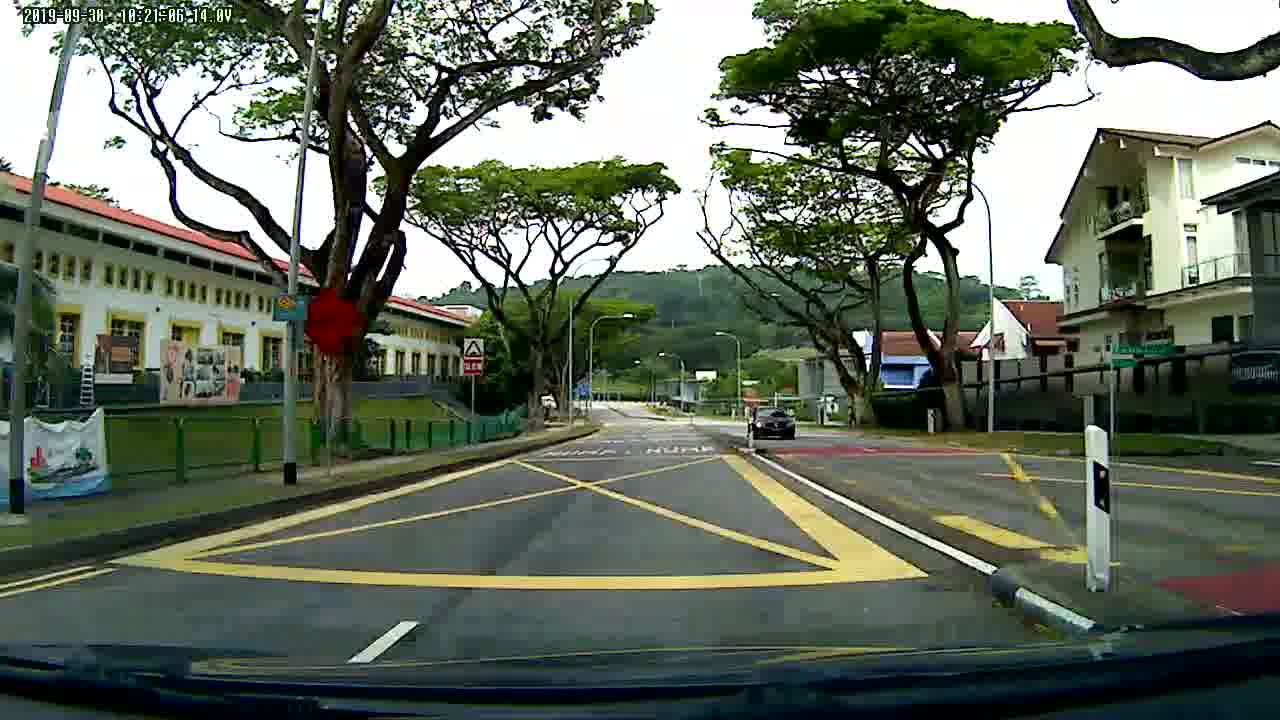car: (747, 405, 796, 440)
